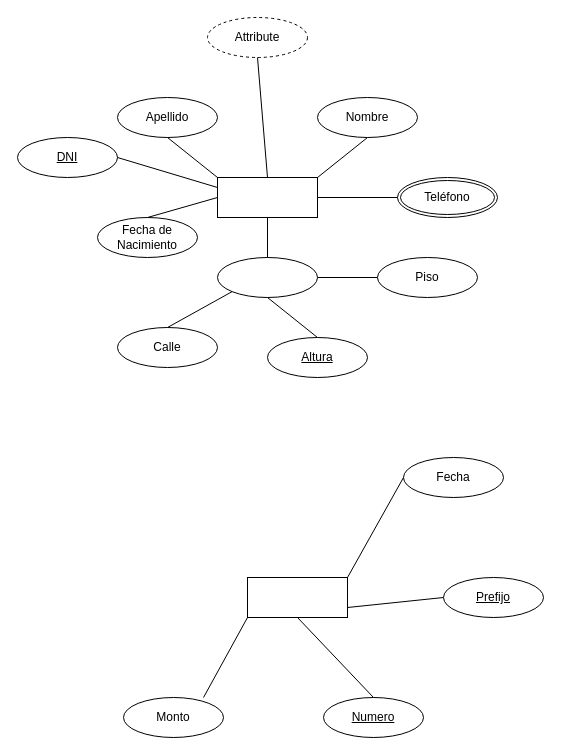
The diagram is 561 pixels wide and 755 high, and some of its shapes have lost their labels. The shapes that lost their labels are listed below. From the top down, each one's centre as x and y in pixels, then its label:
At pixel 267 197: "Persona".
At pixel 267 277: "Dirección".
At pixel 297 597: "Factura".
